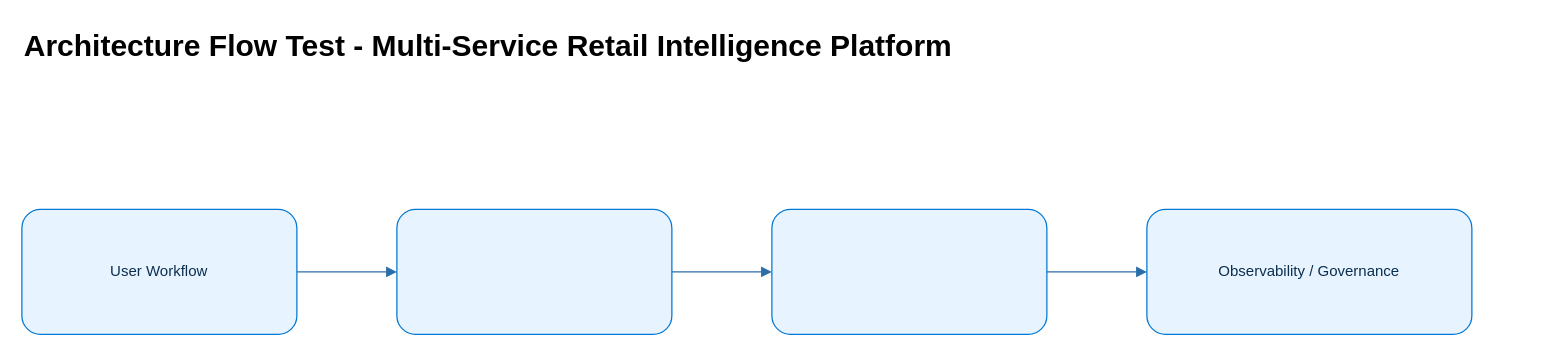
Some shapes in this 1544 by 356 pixel diagram are drawn without their labels. Here are the shapes that lost their labels. From the top down, the centre of each, then its label:
(534,271): API Layer
(909,271): Azure Data / Knowledge
